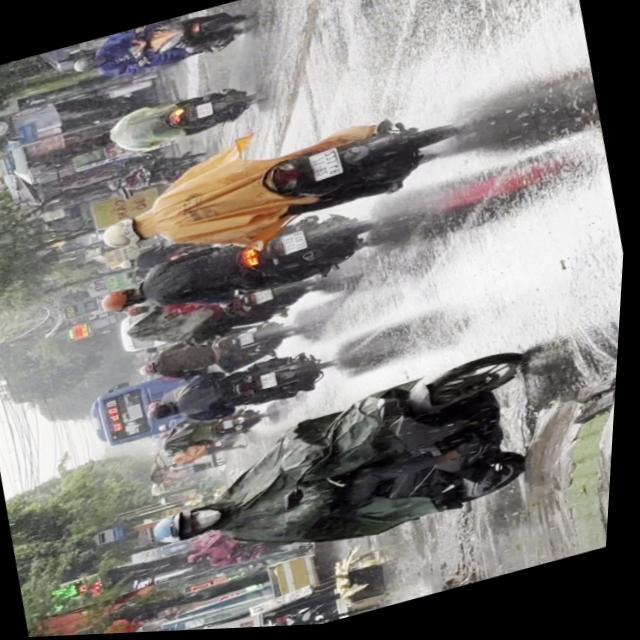helmet: (152, 502, 230, 551), (98, 212, 155, 254), (99, 284, 146, 317), (69, 52, 107, 75), (148, 401, 180, 424)
licenseplate: (123, 340, 569, 602), (84, 91, 475, 283), (91, 201, 393, 338), (104, 267, 340, 368), (63, 0, 260, 95), (142, 344, 339, 439), (77, 78, 263, 167)
motorcyclist: (83, 131, 113, 152)
nohelmet: (308, 150, 344, 184), (281, 231, 309, 257), (261, 374, 281, 392), (194, 103, 214, 120), (255, 290, 274, 306)
